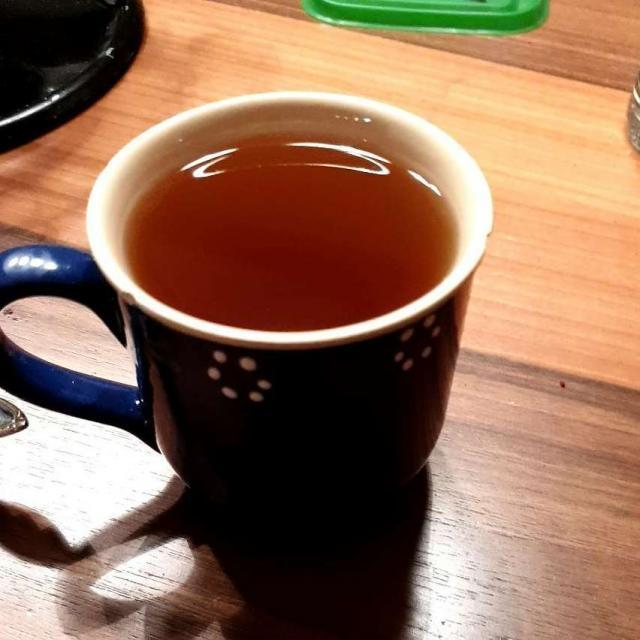tea: (130, 123, 445, 330)
